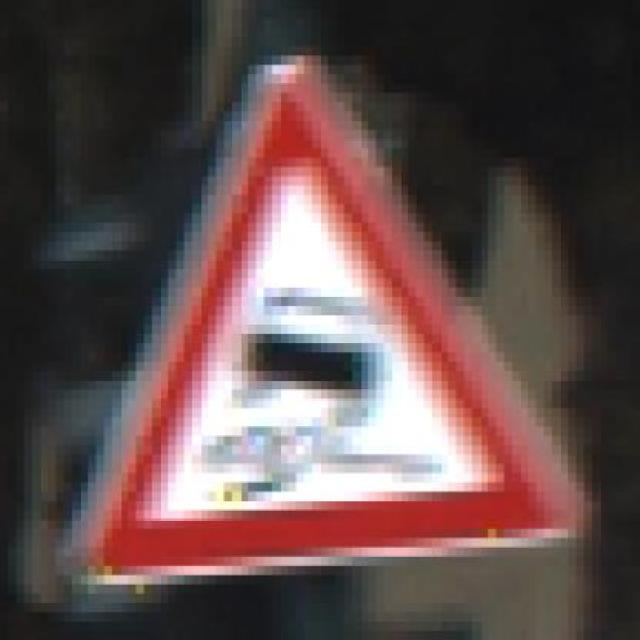Slippery Road Ahead: (45, 49, 590, 578)
